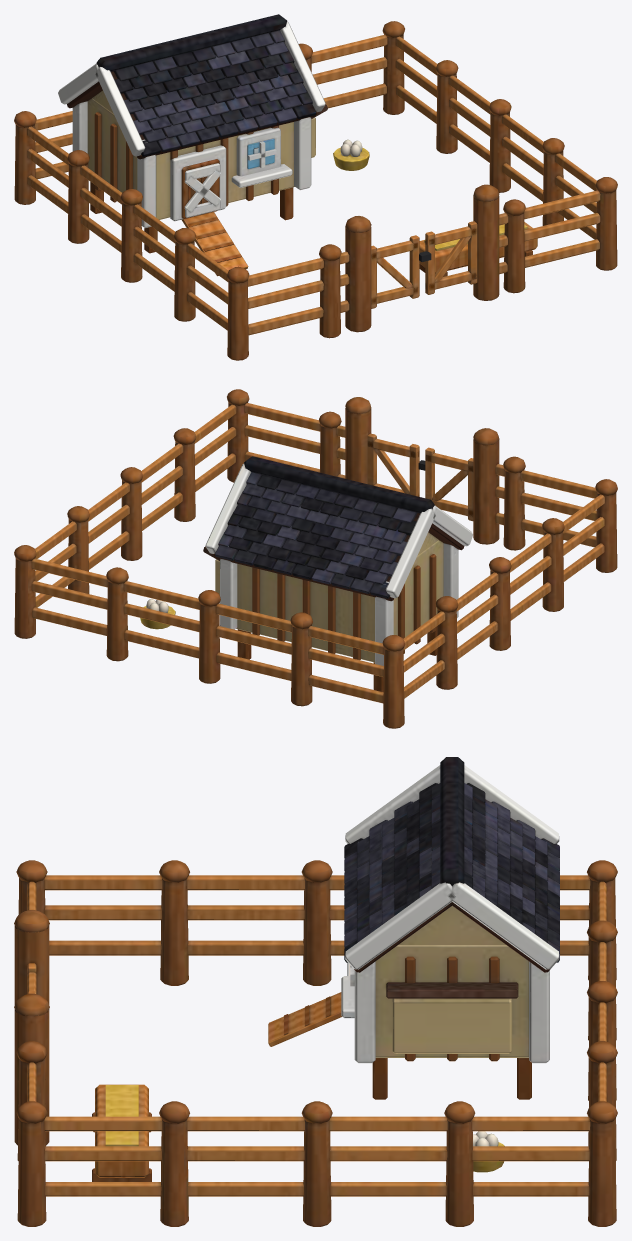
The model's file is cemani_coop.glb.
3 renders of one model, top to bottom at view 1: azimuth 30°, elevation 25°; view 2: azimuth 150°, elevation 25°; view 3: azimuth 270°, elevation 25°, orthographic. The views are drawn at different scales.
Parts seen in each view (by area): view 1: cemani_coop; view 2: cemani_coop; view 3: cemani_coop.
Part boxes in pixels (bbox=[...]): cemani_coop: bbox=[14, 14, 617, 360]; cemani_coop: bbox=[14, 389, 617, 728]; cemani_coop: bbox=[14, 757, 617, 1226].
Bounding box in the file's own units: 2 × 0.8813 × 2.01.
Materials: 1 (1 with a texture image).
